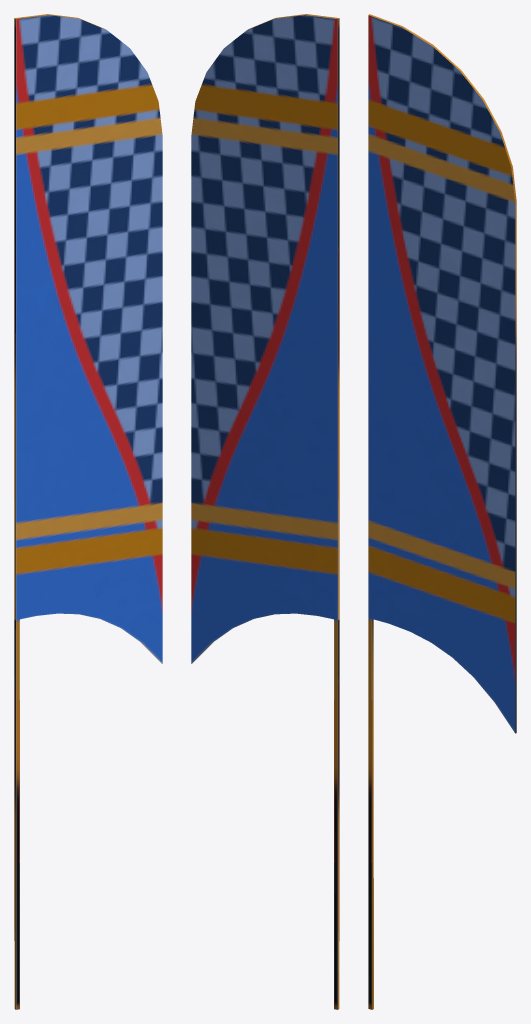
File: Flag.FBX
3 renders of one model, left to right at view 1: azimuth 30°, elevation 25°; view 2: azimuth 150°, elevation 25°; view 3: azimuth 330°, elevation 25°, orthographic.
Parts seen in each view (by area): view 1: Flag_01; view 2: Flag_01; view 3: Flag_01.
Boxes of the visible parts, left/top/right/bottom form: Flag_01: left=14, top=14, right=162, bottom=1009; Flag_01: left=191, top=14, right=339, bottom=1009; Flag_01: left=368, top=14, right=516, bottom=1009.
Size of the model in its own units: 1.02 by 6.61 by 0.0177.
